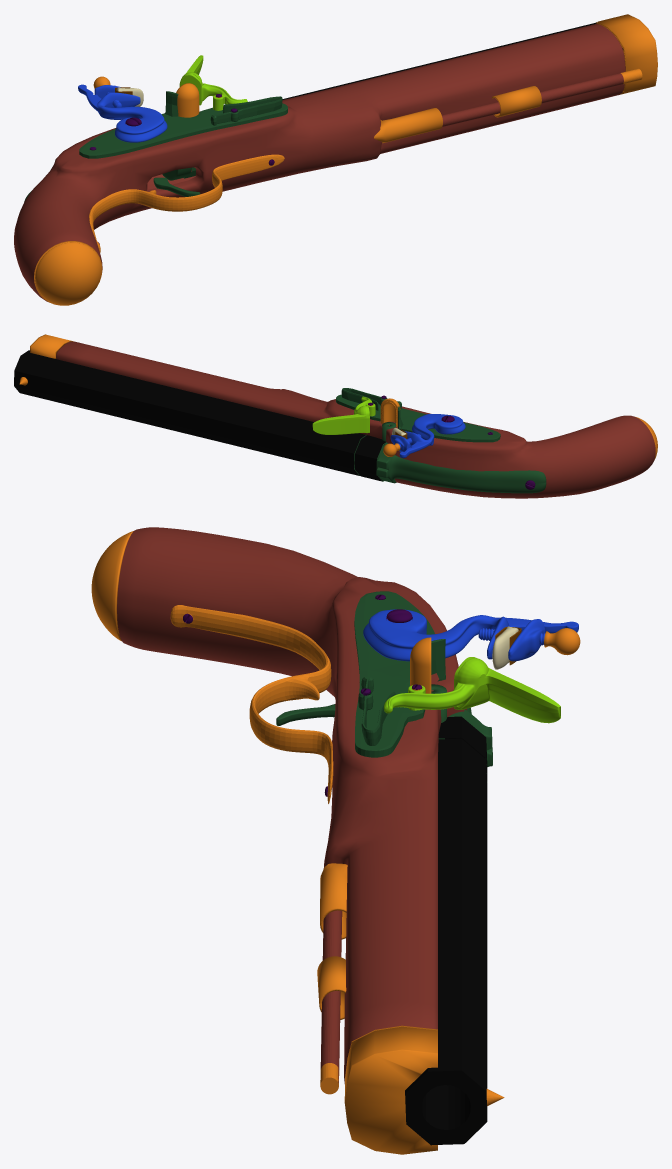
The model's file is new-flintlock.fbx.
3 views of the same model, one above another, from view 1: azimuth 30°, elevation 25°; view 2: azimuth 150°, elevation 25°; view 3: azimuth 270°, elevation 25° (orthographic). The views are drawn at different scales.
Visible parts, largest first — view 1: pistol, striker, cap; view 2: pistol, striker, cap; view 3: pistol, striker, cap.
Boxes of the visible parts, x1=… form: pistol: x1=14, y1=14, x2=657, y2=305; striker: x1=78, y1=76, x2=167, y2=142; cap: x1=179, y1=55, x2=247, y2=110; pistol: x1=14, y1=334, x2=657, y2=498; striker: x1=383, y1=414, x2=465, y2=458; cap: x1=312, y1=396, x2=375, y2=434; pistol: x1=91, y1=527, x2=504, y2=1154; striker: x1=363, y1=609, x2=580, y2=669; cap: x1=384, y1=657, x2=560, y2=723.
Bounding box in the file's own units: 29.72 × 4.34 × 11.3.
